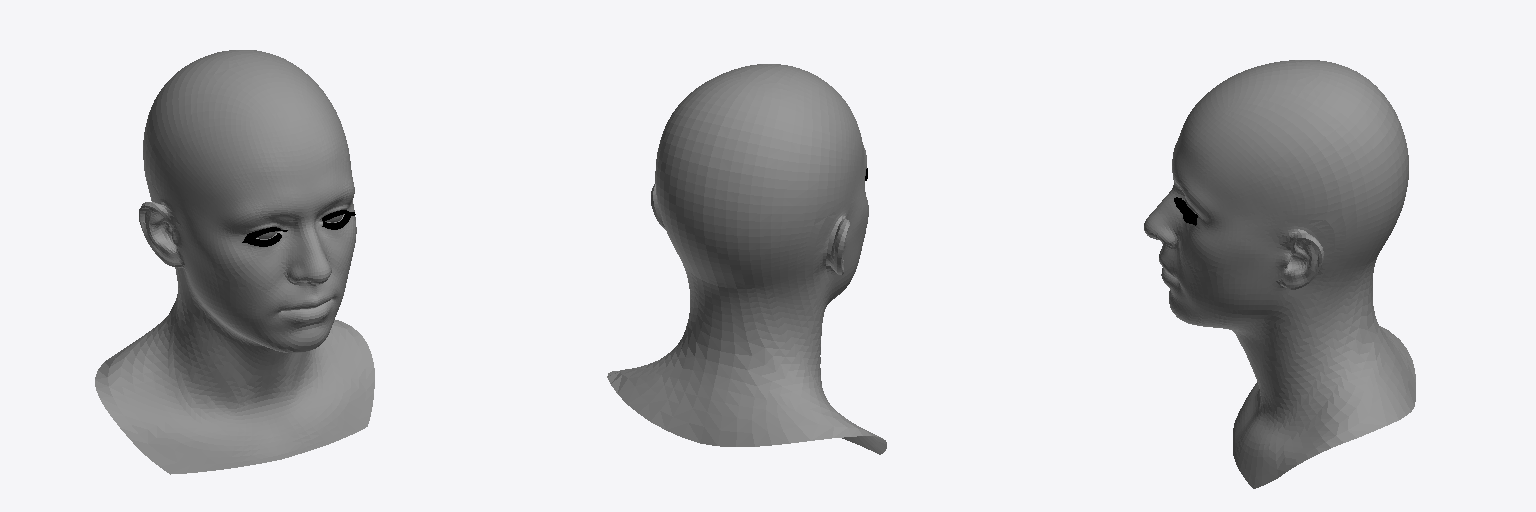
The model's file is identity095.obj.
The picture shows the model from 3 angles: view 1: azimuth 30°, elevation 25°; view 2: azimuth 150°, elevation 25°; view 3: azimuth 270°, elevation 25°; orthographic projection.
Bounding box in the file's own units: 24.83 × 33.81 × 22.34.